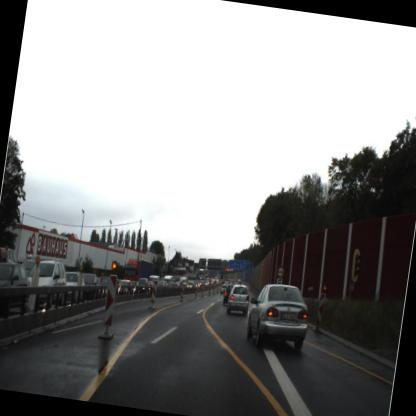prohibitory: (272, 259, 288, 281)
